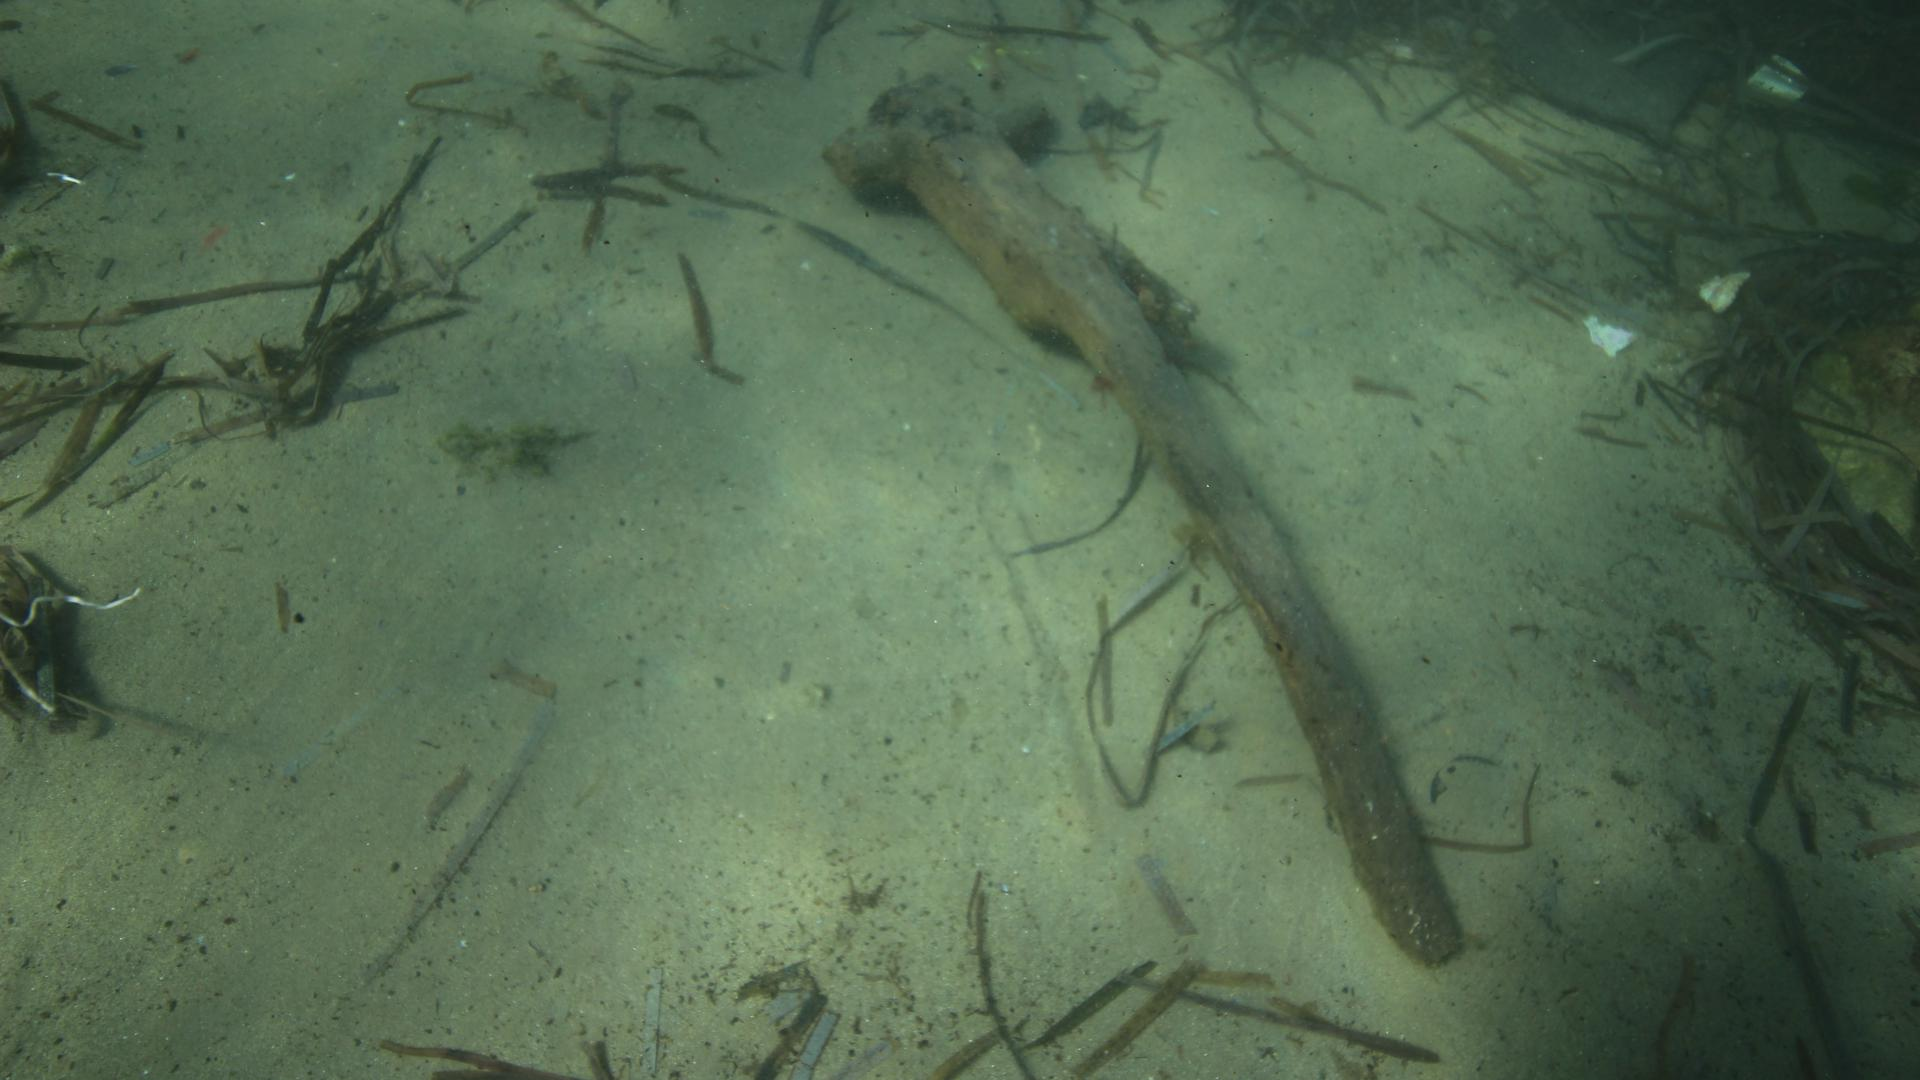wood: (822, 76, 1465, 971)
